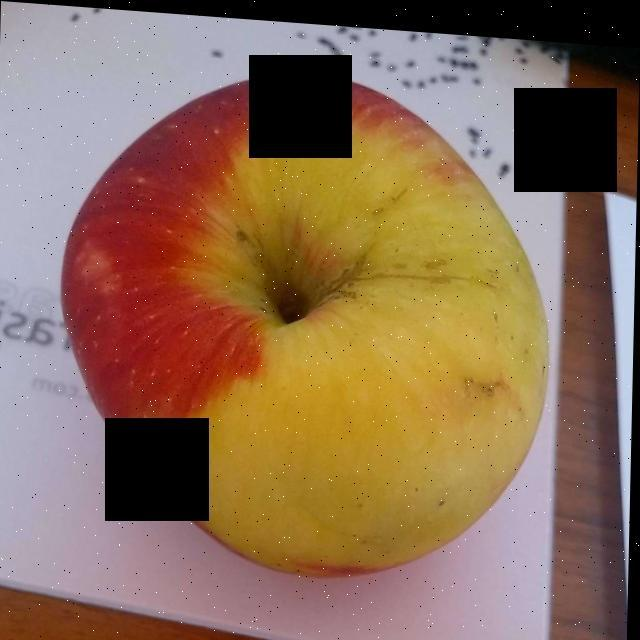apple: (71, 76, 545, 559)
